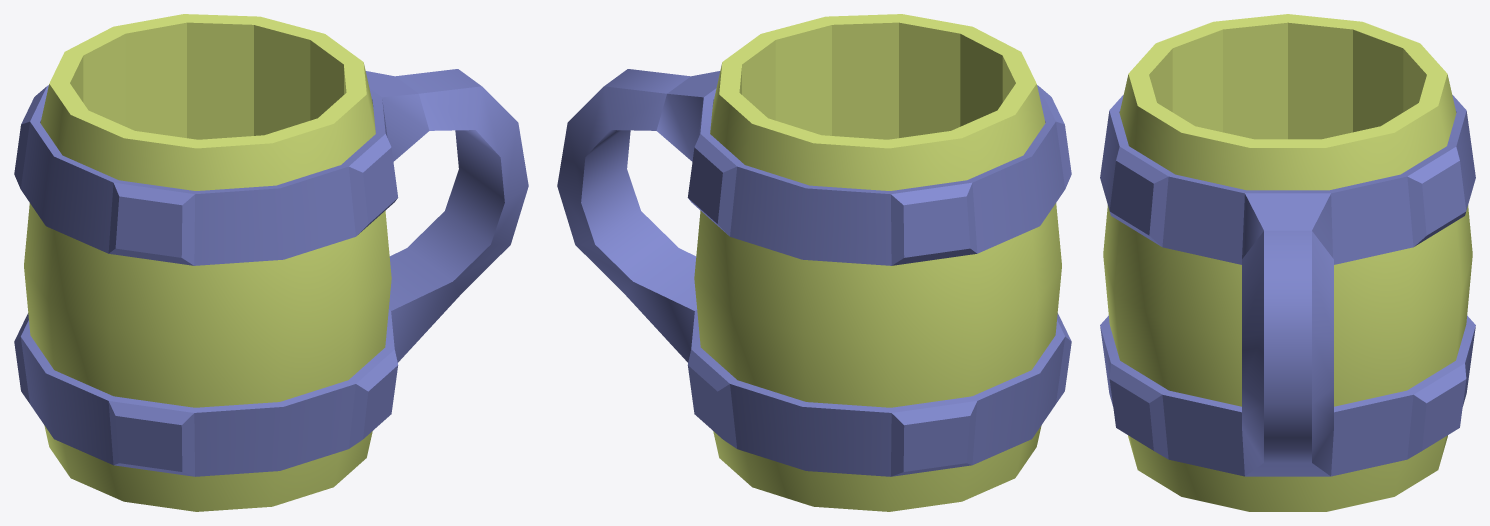
The model's file is Cup.fbx.
The picture shows the model from 3 angles, left to right: view 1: azimuth 30°, elevation 25°; view 2: azimuth 150°, elevation 25°; view 3: azimuth 270°, elevation 25°; orthographic projection.
Visible parts, largest first — view 1: Cup; view 2: Cup; view 3: Cup.
Part boxes in pixels (x1,y1,x2,y2): Cup: (14,14,528,511); Cup: (557,14,1071,511); Cup: (1100,14,1475,511).
Bounding box in the file's own units: 27.12 × 20 × 18.71.
